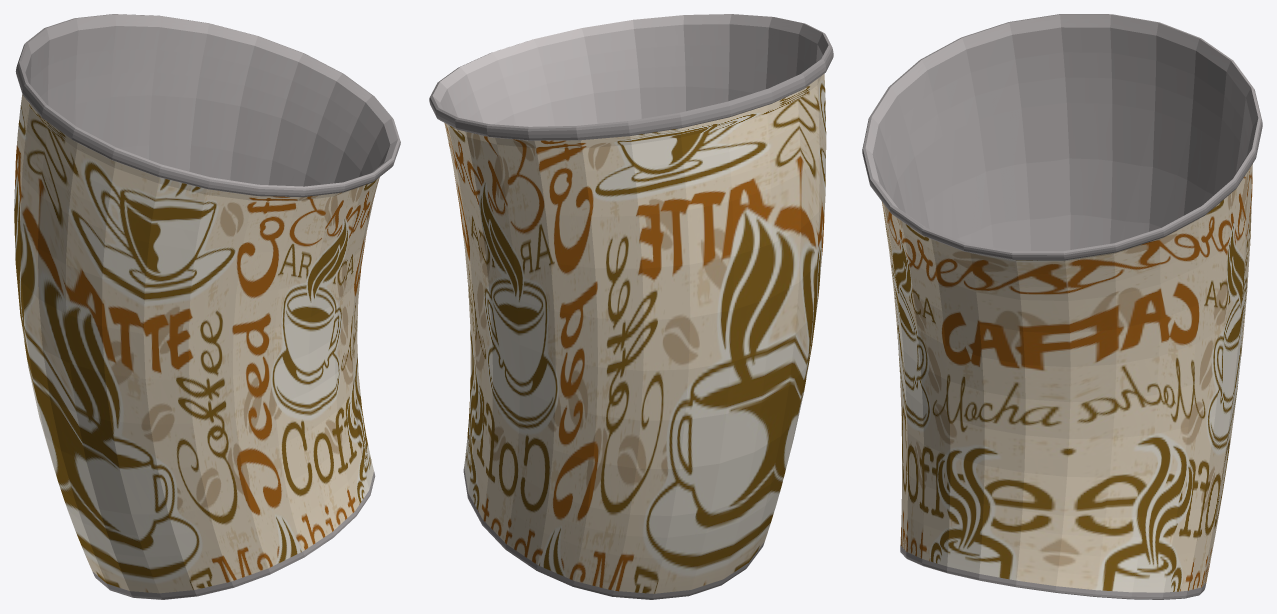
Rendered from bend_low_0.obj.
3 renders of one model, left to right at view 1: azimuth 30°, elevation 25°; view 2: azimuth 150°, elevation 25°; view 3: azimuth 270°, elevation 25°, orthographic. The views are drawn at different scales.
Parts seen in each view (by area): view 1: model; view 2: model; view 3: model.
Boxes of the visible parts, x1,y1,x2,y2 form: model: [14, 14, 400, 599]; model: [429, 14, 833, 599]; model: [862, 14, 1262, 599].
Size of the model in its own units: 0.0821 by 0.1178 by 0.0833.
1 material, 1 textured.
